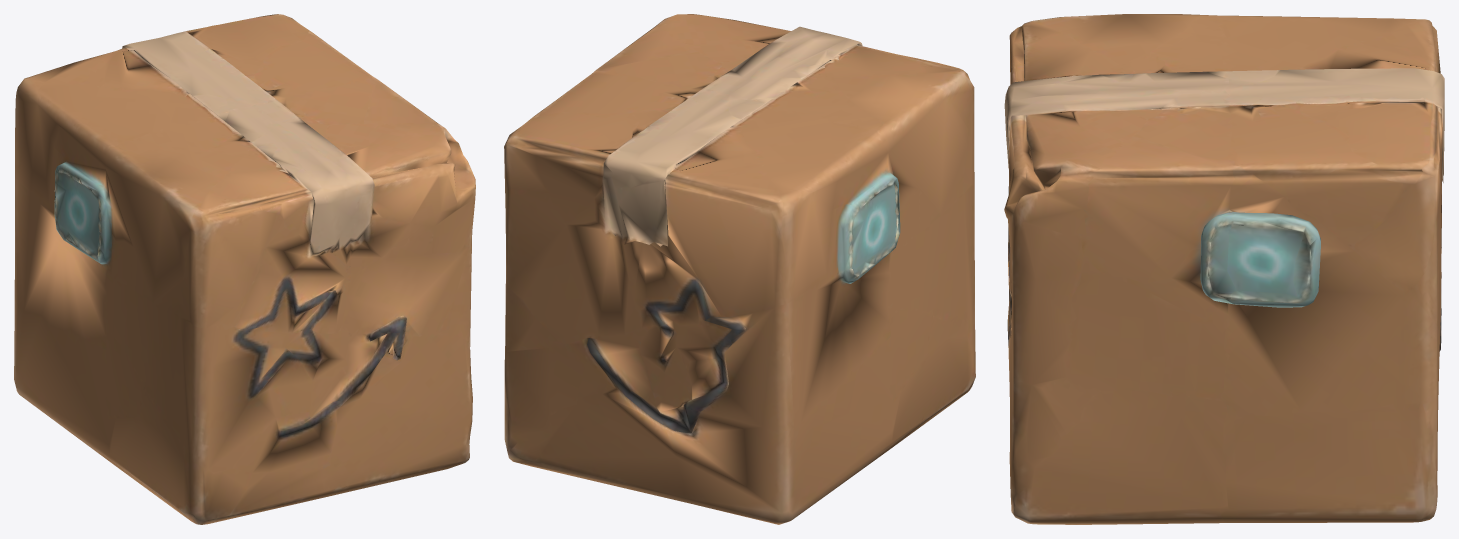
Rendered from moving-box.medium.glb.
3 renders of one model, left to right at view 1: azimuth 30°, elevation 25°; view 2: azimuth 150°, elevation 25°; view 3: azimuth 270°, elevation 25°, orthographic. The views are drawn at different scales.
Visible parts, largest first — view 1: tripo_node_ac6150f5-f9b6-450d-adf1-810850c692bf; view 2: tripo_node_ac6150f5-f9b6-450d-adf1-810850c692bf; view 3: tripo_node_ac6150f5-f9b6-450d-adf1-810850c692bf.
Part boxes in pixels (box(x1,y1,x2,y2)): tripo_node_ac6150f5-f9b6-450d-adf1-810850c692bf: box(14, 14, 475, 524); tripo_node_ac6150f5-f9b6-450d-adf1-810850c692bf: box(504, 14, 975, 524); tripo_node_ac6150f5-f9b6-450d-adf1-810850c692bf: box(1004, 14, 1444, 524).
Size of the model in its own units: 0.4335 by 0.4395 by 0.4722.
1 material, 1 textured.
